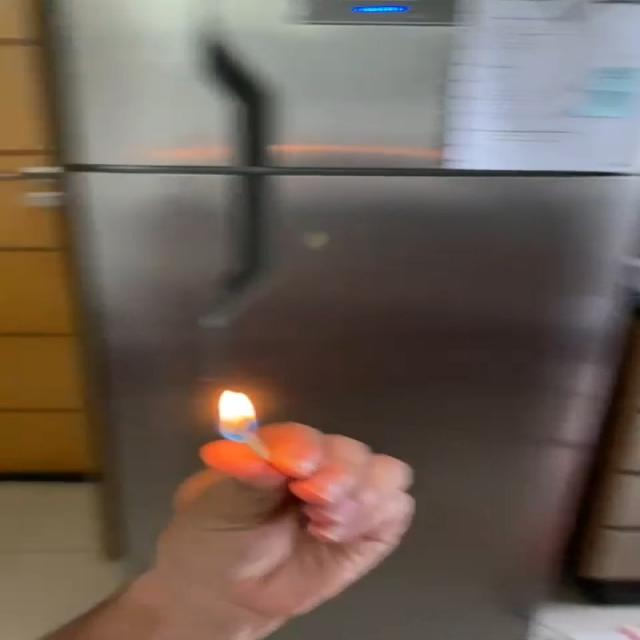fogo-ypXI: (216, 388, 258, 442)
